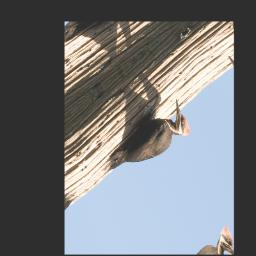Woodpecker: (95, 82, 192, 197)
